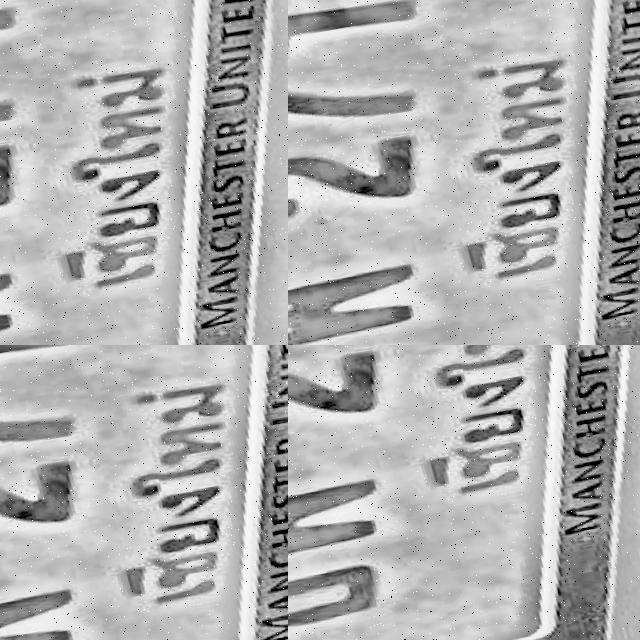license-plate: (288, 345, 640, 640), (0, 0, 288, 345), (0, 345, 288, 640)
